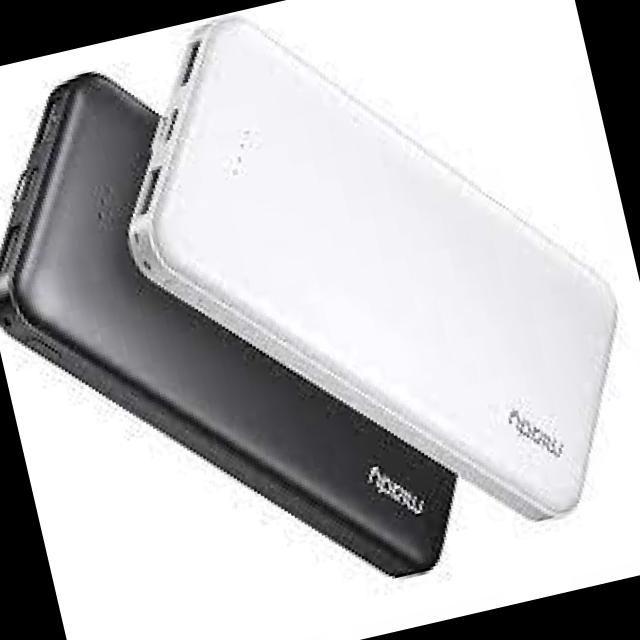power_bank: (82, 0, 640, 603), (0, 10, 483, 640)
